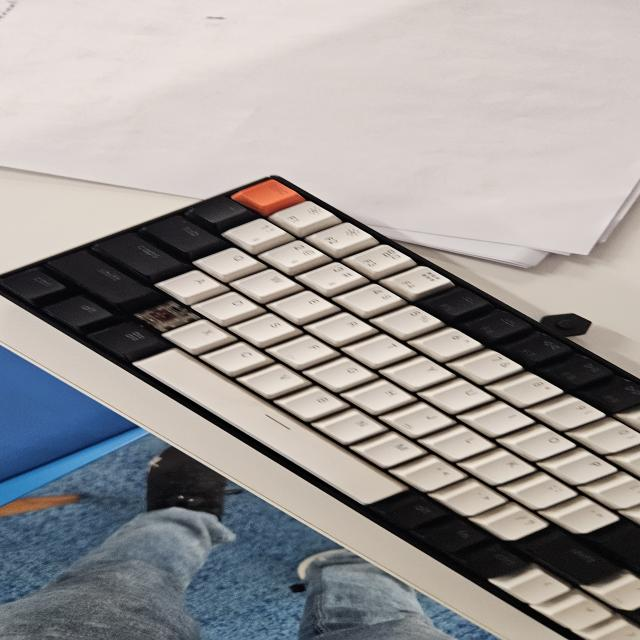C: (147, 306, 187, 326)
